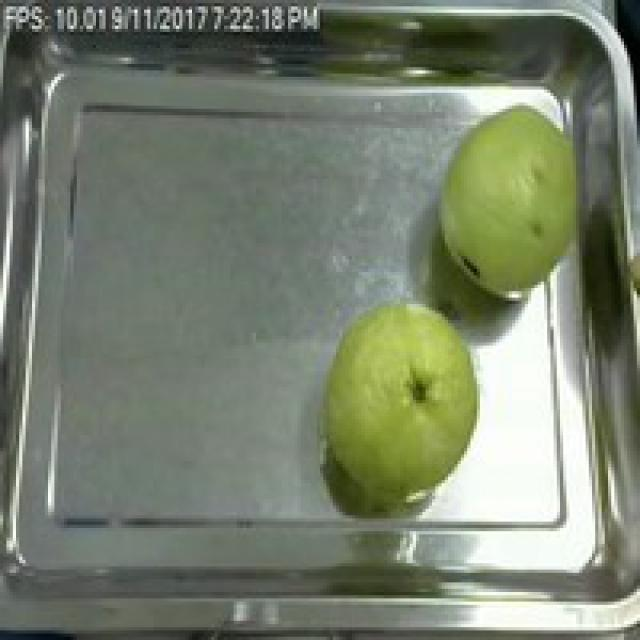Fruit: (304, 291, 490, 512), (426, 102, 604, 314)
